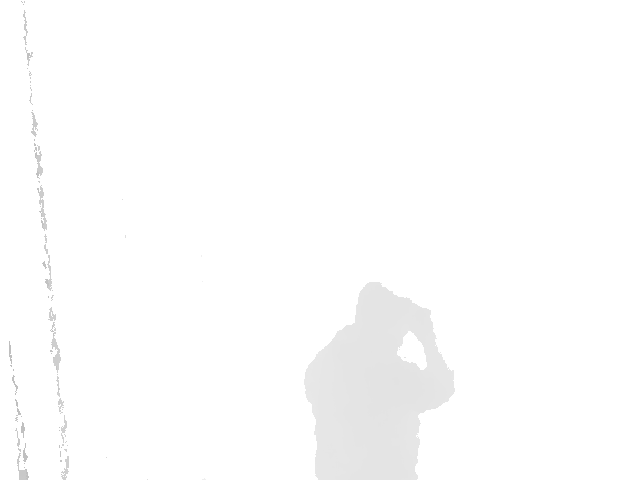head: (354, 282, 407, 366)
person: (302, 282, 455, 480)
